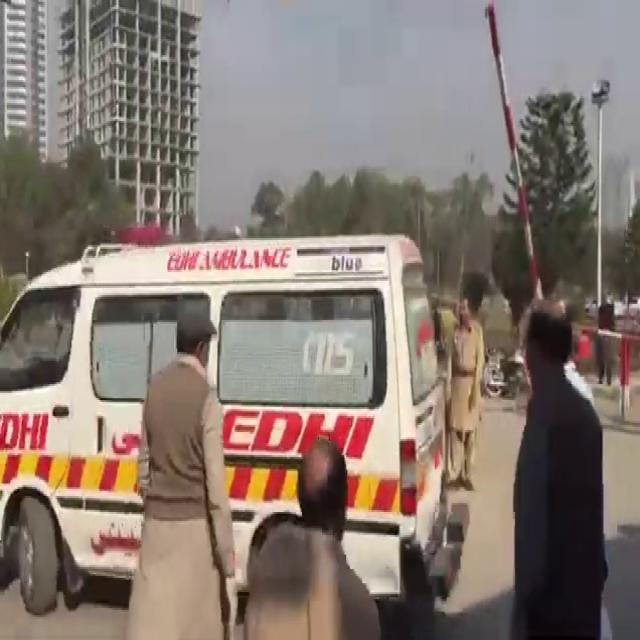ambulance: (9, 255, 433, 555)
